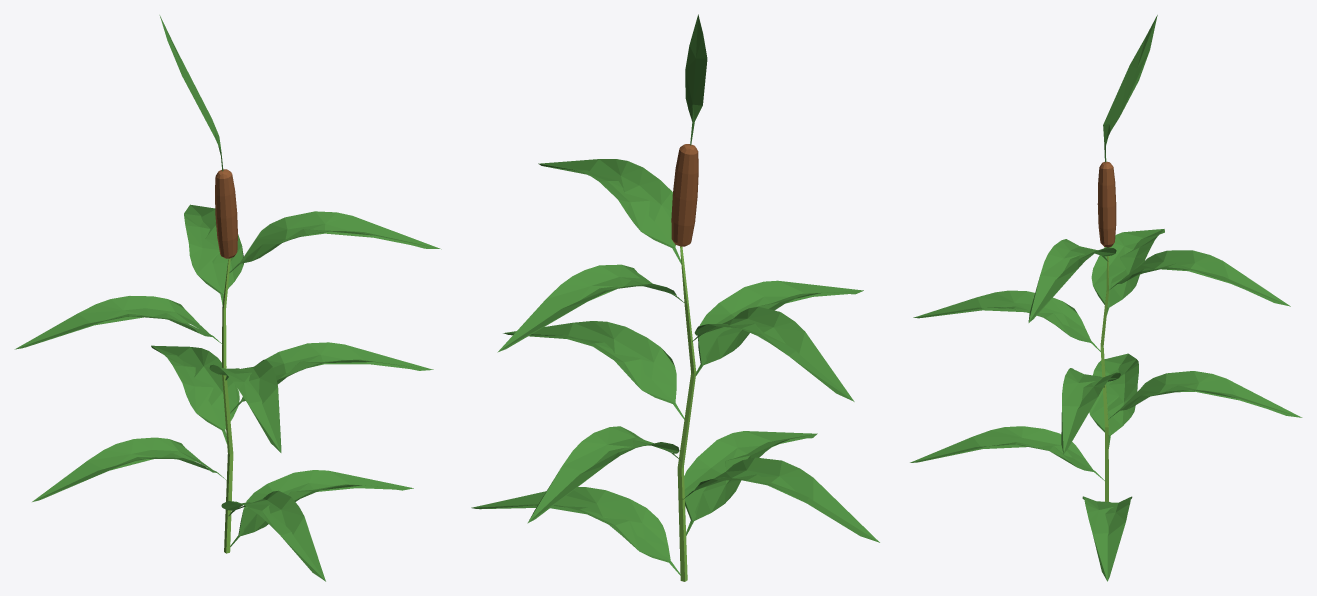
The model's file is reed.fbx.
The picture shows the model from 3 angles, left to right: view 1: azimuth 30°, elevation 25°; view 2: azimuth 150°, elevation 25°; view 3: azimuth 270°, elevation 25°; orthographic projection. The views are drawn at different scales.
Visible parts, largest first — view 1: reed_LOD0; view 2: reed_LOD0; view 3: reed_LOD0.
Boxes of the visible parts, x1,y1,x2,y2 form: reed_LOD0: [14, 15, 441, 581]; reed_LOD0: [471, 14, 879, 581]; reed_LOD0: [910, 15, 1302, 581].
Size of what is drawn, in the model's own units: 280 by 380 by 281.
